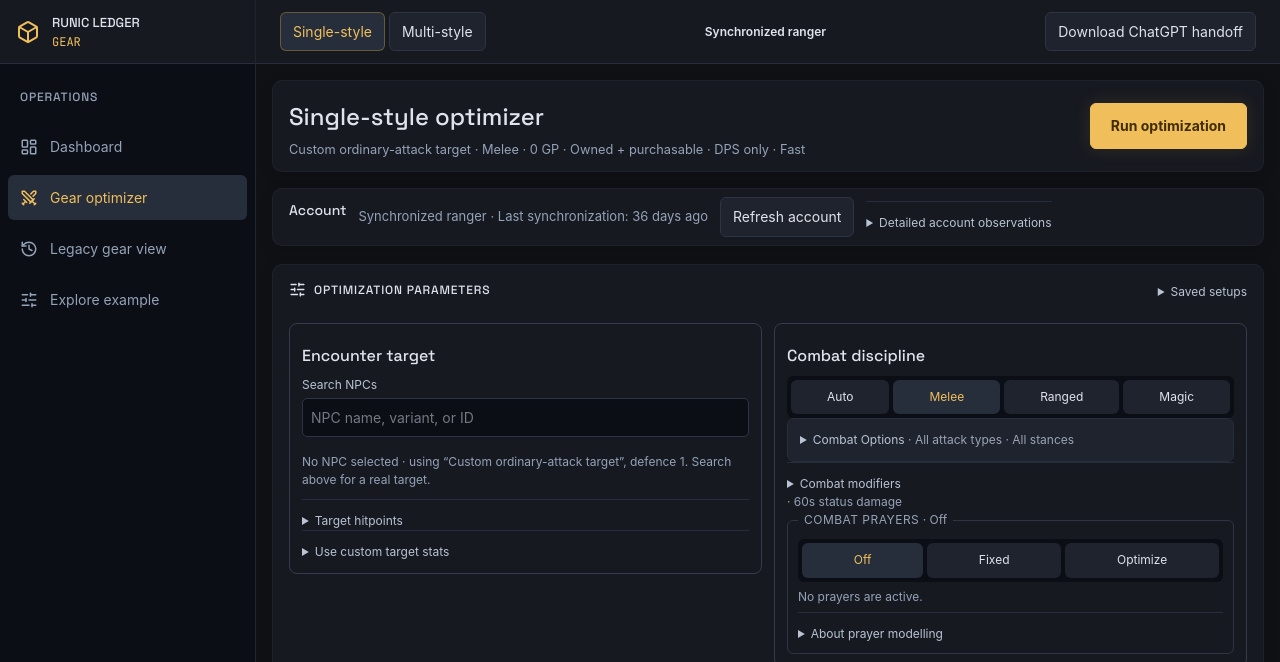
Scenario: flags settings changed from the sticky action bar
Click the button "Run optimization": (1168, 126) [1090, 103, 1247, 149]
(page scrolled)
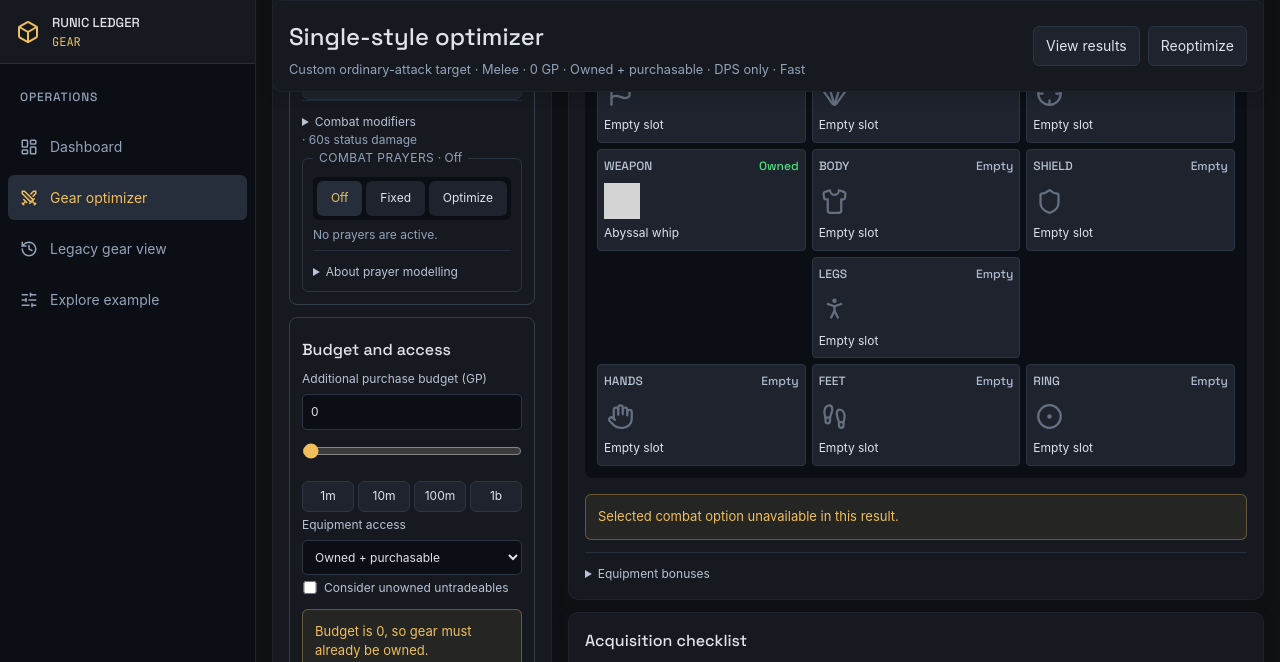
Expected: the text "Settings changed since this result" is not shown
In the field labelled "Additional purchase budget (GP)": (412, 412) [302, 394, 522, 430], type "5"
(page scrolled)
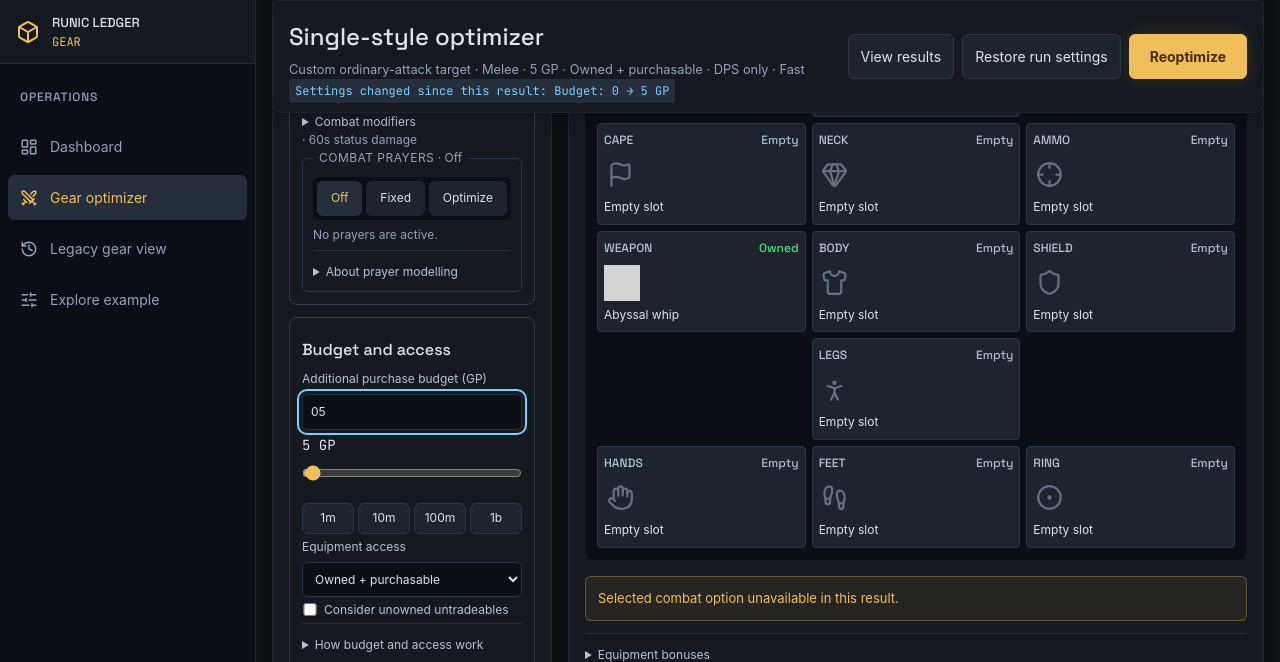
Result: the text "Settings changed since this result: Budget: 0 → 5 GP" is shown at [289, 79, 675, 103]
